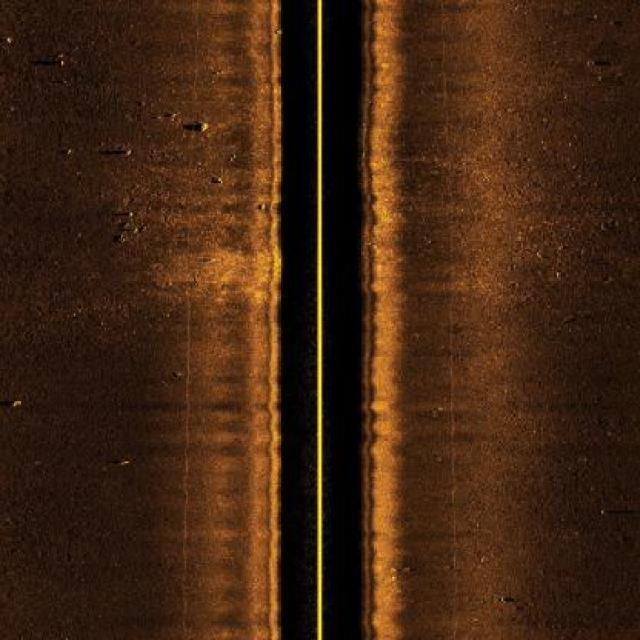mine: (103, 455, 134, 468), (0, 396, 28, 410)
other: (184, 119, 218, 138)
